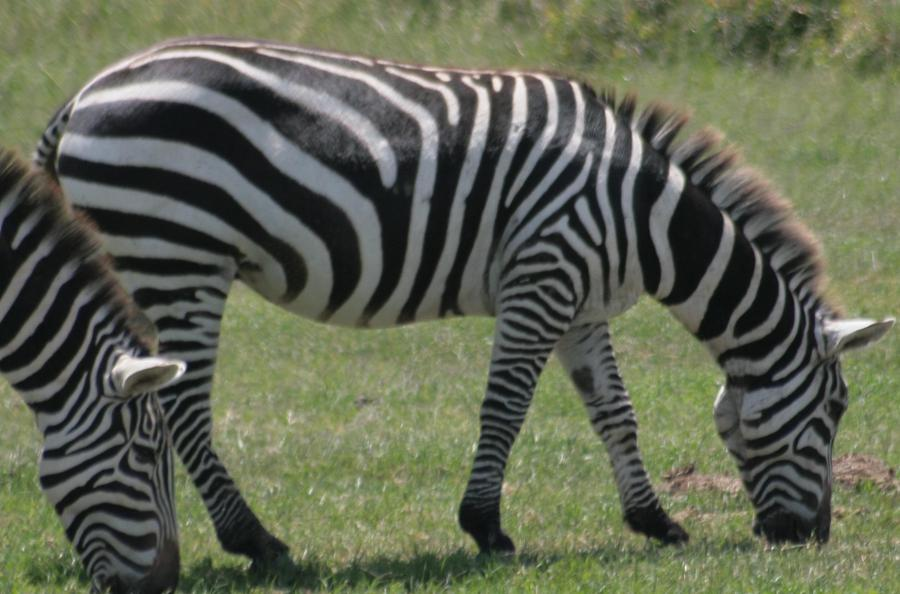zebra_plains: (69, 40, 623, 314)
